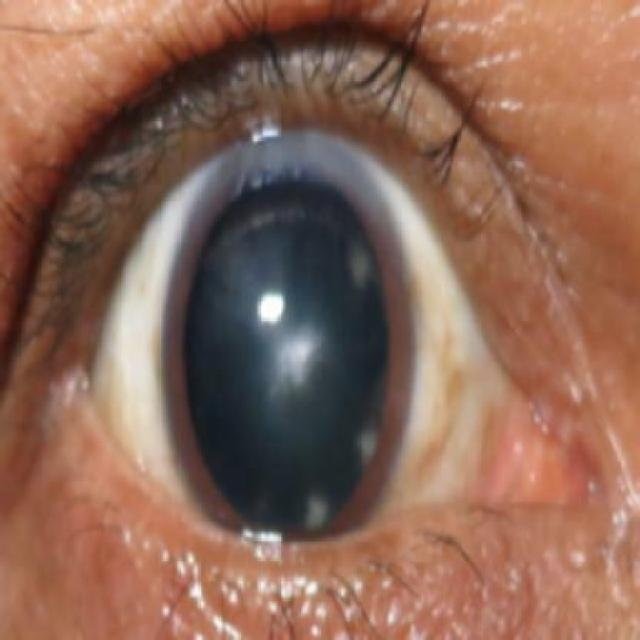Cataract: (158, 133, 418, 575)
